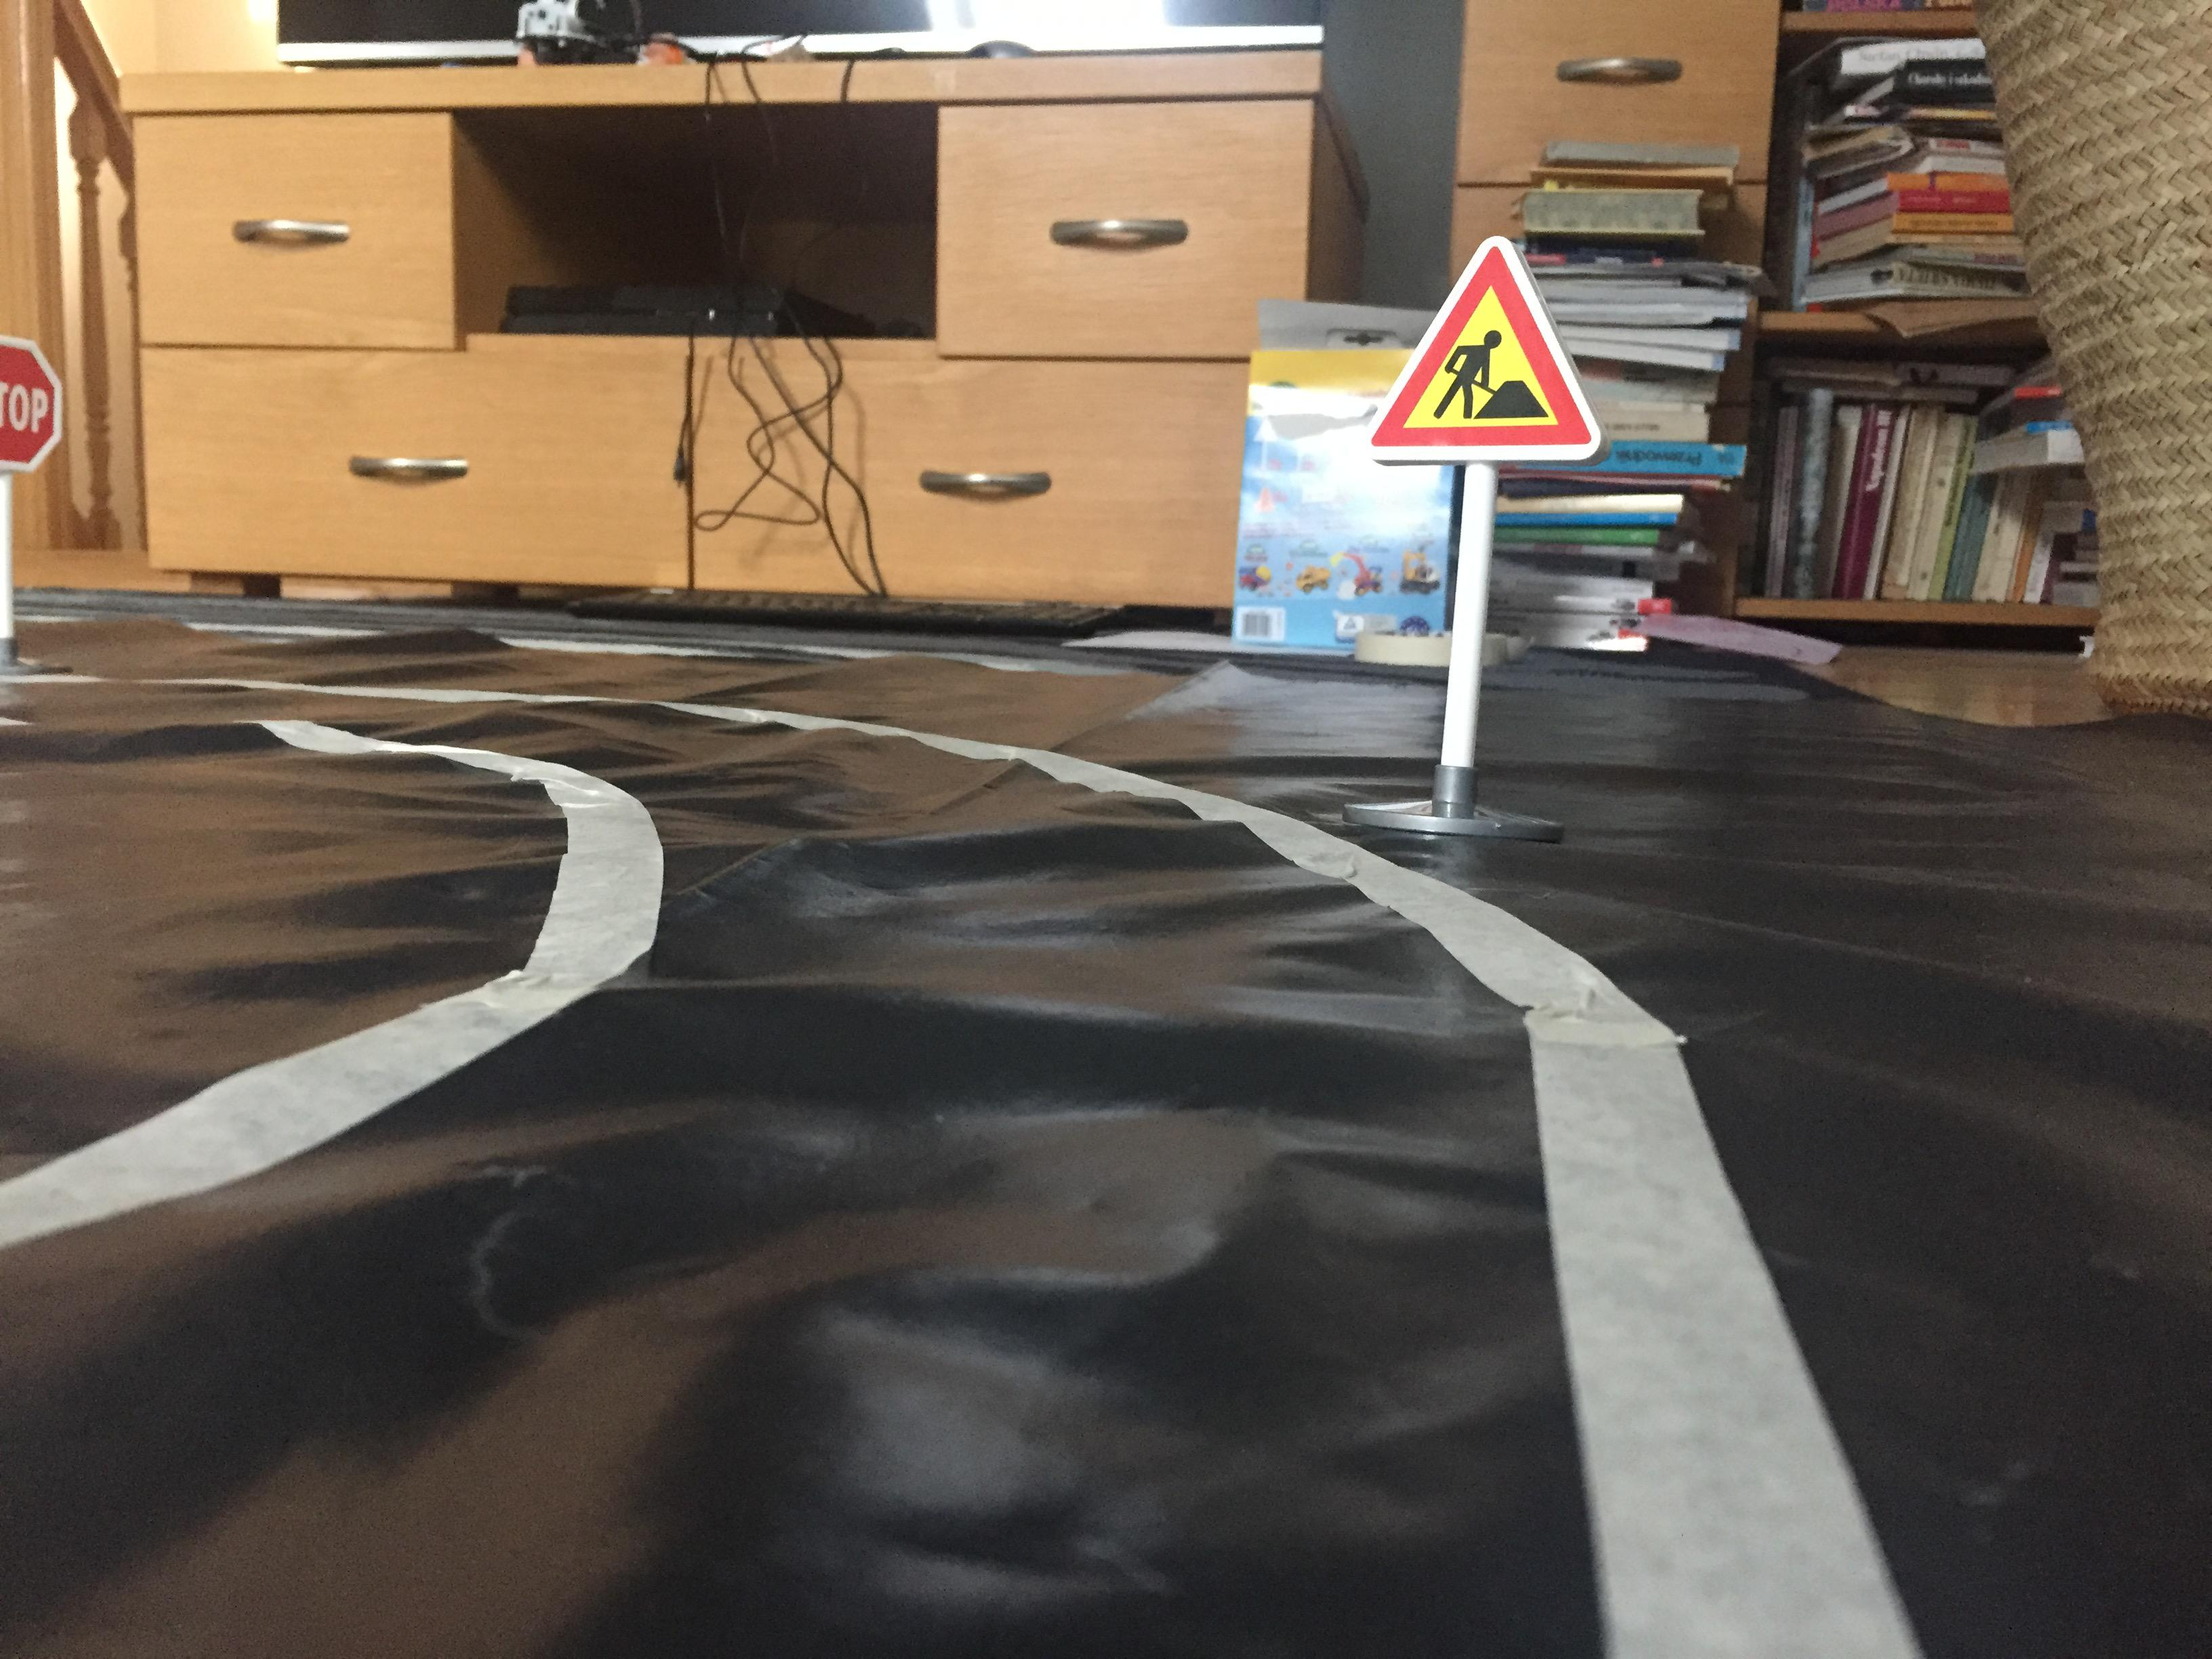work: (1355, 227, 1616, 481)
